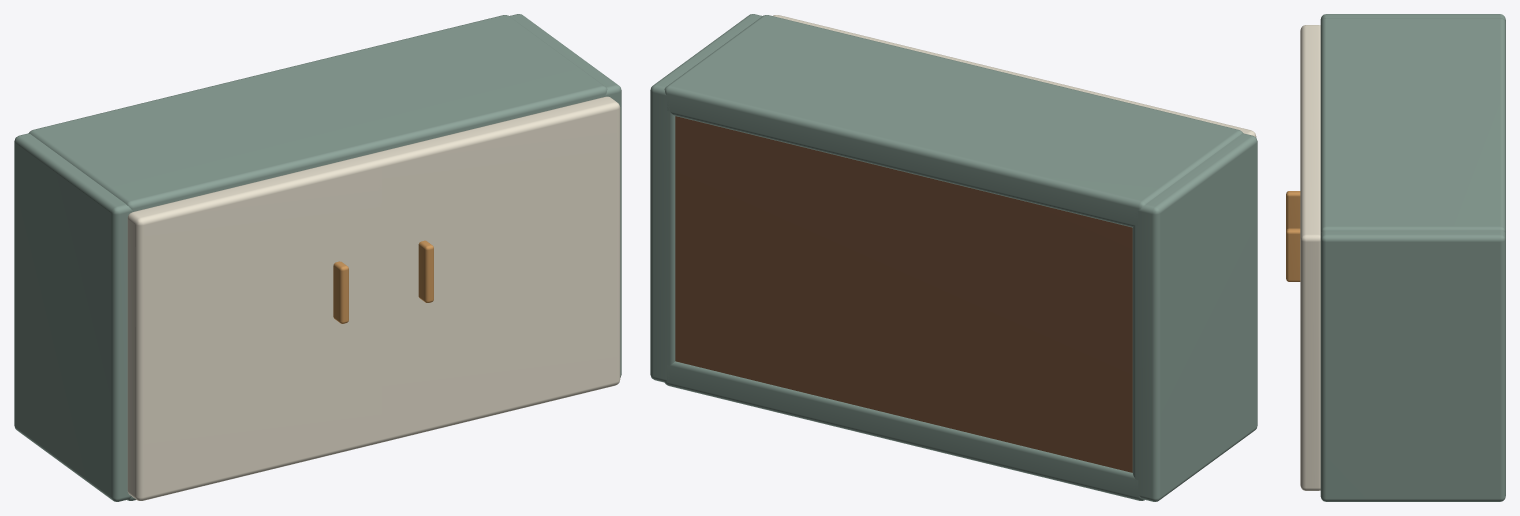
Rendered from porta-sobreposta.glb.
The picture shows the model from 3 angles, left to right: view 1: azimuth 30°, elevation 25°; view 2: azimuth 150°, elevation 25°; view 3: azimuth 270°, elevation 25°; orthographic projection. The views are drawn at different scales.
Visible parts, largest first — view 1: Porta, Porta.001, Estrutura horizontal.001, Lateral, Lateral.001, Pega, Pega.001; view 2: Fundo, Estrutura horizontal.001, Lateral, Estrutura horizontal, Lateral.001, Porta, Porta.001; view 3: Lateral.001, Estrutura horizontal.001, Porta.001, Porta, Pega.001, Lateral, Pega.
Part boxes in pixels (x1,y1,x2,y2): Porta: (127, 154, 381, 500); Porta.001: (371, 96, 620, 443); Estrutura horizontal.001: (29, 15, 607, 211); Lateral: (14, 133, 134, 501); Lateral.001: (509, 14, 621, 377); Pega: (333, 261, 348, 323); Pega.001: (418, 240, 433, 302); Fundo: (675, 116, 1132, 472); Estrutura horizontal.001: (664, 15, 1242, 227); Lateral: (1132, 133, 1257, 501); Estrutura horizontal: (664, 361, 1144, 500); Lateral.001: (650, 14, 762, 382); Porta: (1013, 73, 1256, 137); Porta.001: (773, 15, 1015, 74); Lateral.001: (1320, 230, 1505, 501); Estrutura horizontal.001: (1320, 18, 1505, 233); Porta.001: (1300, 129, 1320, 490); Porta: (1300, 25, 1320, 134); Pega.001: (1286, 228, 1300, 281); Lateral: (1320, 14, 1505, 22); Pega: (1286, 191, 1300, 230).
Bounding box in the file's own units: 2.24 × 1.26 × 0.925.
